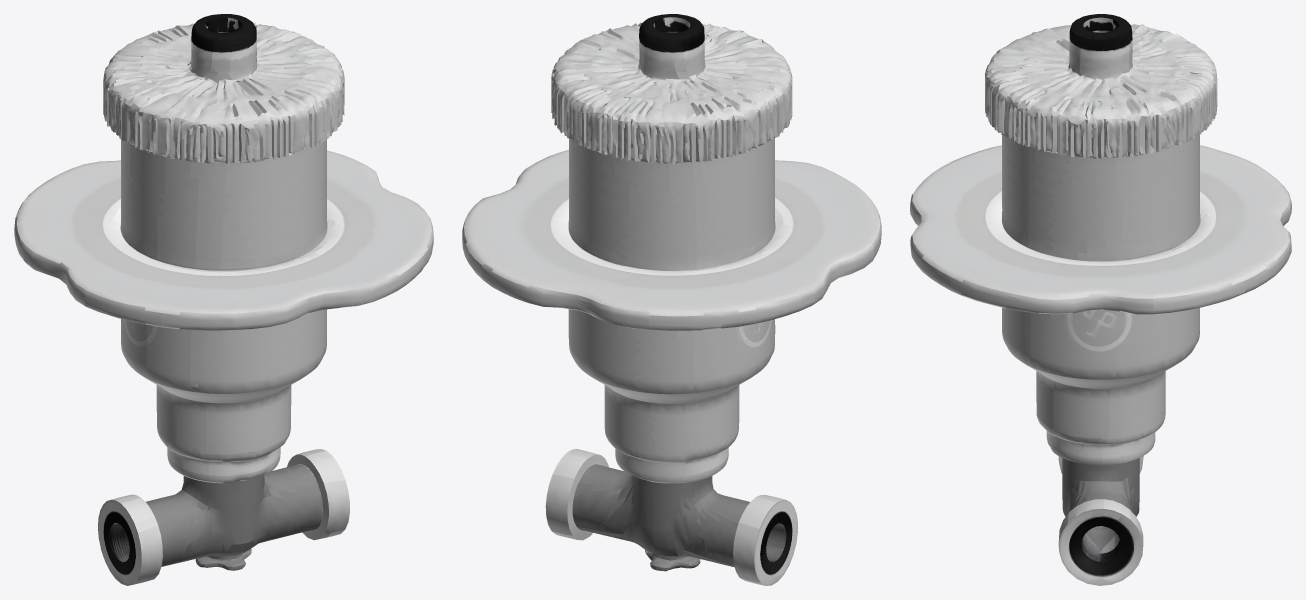
The model's file is fuel-pressure-regulator.glb.
The picture shows the model from 3 angles, left to right: view 1: azimuth 30°, elevation 25°; view 2: azimuth 150°, elevation 25°; view 3: azimuth 270°, elevation 25°; orthographic projection. The views are drawn at different scales.
Bounding box in the file's own units: 1.28 × 1.9 × 1.28.
Materials: 1 (1 with a texture image).
